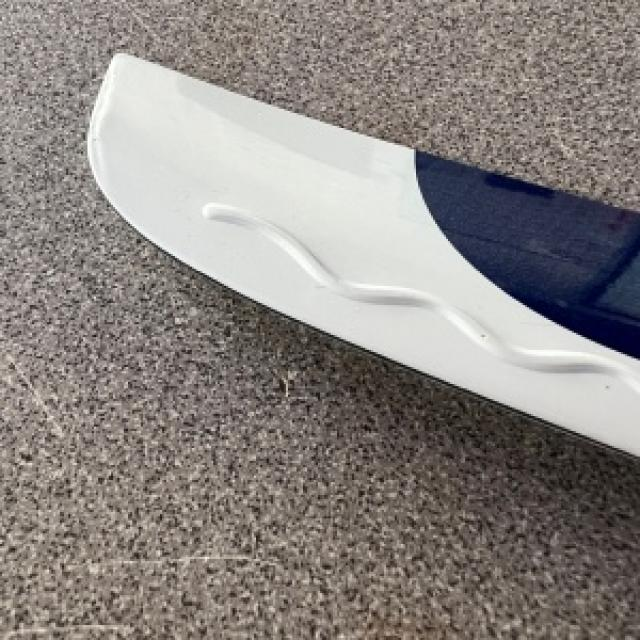healthy: (87, 51, 638, 452)
